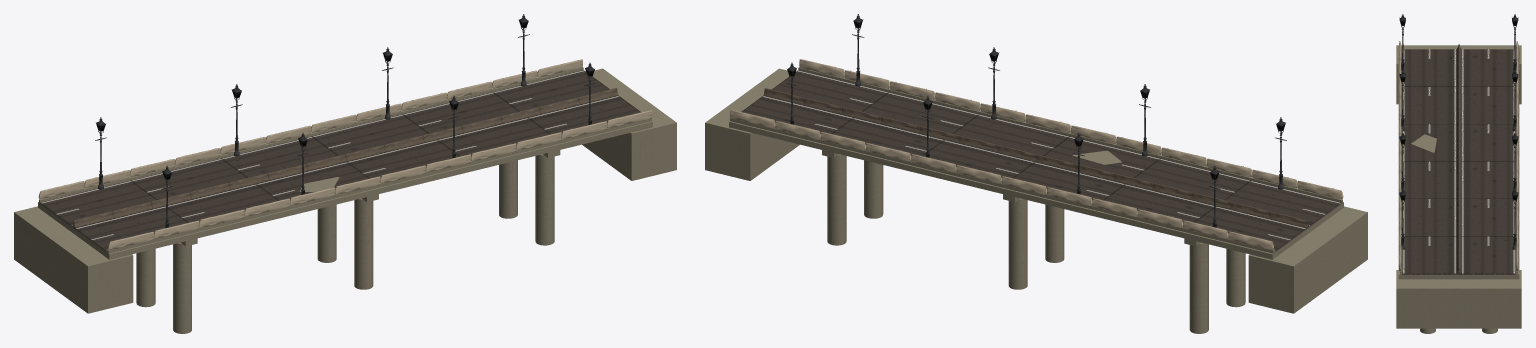
File: debris.glb
3 renders of one model, left to right at view 1: azimuth 30°, elevation 25°; view 2: azimuth 150°, elevation 25°; view 3: azimuth 270°, elevation 25°, orthographic. The views are drawn at different scales.
Visible parts, largest first — view 1: piece_016, piece_008, piece_284, piece_262, piece_259, piece_274, piece_011, piece_256, piece_020, piece_185, piece_017, piece_187 (+22 smaller); view 2: piece_016, piece_008, piece_270, piece_261, piece_258, piece_255, piece_185, piece_011, piece_005, piece_275, piece_287, piece_187 (+25 smaller); view 3: piece_016, piece_008, piece_291, piece_011, piece_005, piece_283, piece_020, piece_017, piece_284, piece_010, piece_018, piece_007 (+37 smaller).
Boxes of the visible parts, bbox=[...] form: piece_016: bbox=[426, 70, 640, 155]; piece_008: bbox=[342, 108, 463, 167]; piece_284: bbox=[625, 113, 676, 164]; piece_262: bbox=[535, 154, 554, 245]; piece_259: bbox=[354, 198, 373, 289]; piece_274: bbox=[82, 259, 123, 313]; piece_011: bbox=[296, 129, 368, 176]; piece_256: bbox=[173, 242, 191, 333]; piece_020: bbox=[215, 135, 316, 172]; piece_185: bbox=[170, 67, 583, 170]; piece_017: bbox=[170, 160, 241, 189]; piece_187: bbox=[280, 118, 651, 211]; piece_016: bbox=[741, 70, 972, 150]; piece_008: bbox=[903, 121, 1034, 171]; piece_270: bbox=[1268, 251, 1309, 313]; piece_261: bbox=[827, 154, 846, 245]; piece_258: bbox=[1008, 198, 1027, 289]; piece_255: bbox=[1189, 242, 1208, 333]; piece_185: bbox=[730, 118, 1142, 221]; piece_011: bbox=[987, 150, 1072, 181]; piece_005: bbox=[1218, 195, 1341, 221]; piece_275: bbox=[1248, 254, 1277, 309]; piece_287: bbox=[727, 141, 767, 180]; piece_187: bbox=[798, 67, 1170, 160]; piece_016: bbox=[1402, 200, 1515, 274]; piece_008: bbox=[1419, 166, 1515, 208]; piece_291: bbox=[1441, 286, 1486, 328]; piece_011: bbox=[1429, 147, 1514, 173]; piece_005: bbox=[1403, 49, 1472, 85]; piece_283: bbox=[1483, 270, 1521, 318]; piece_020: bbox=[1476, 121, 1515, 162]; piece_017: bbox=[1463, 100, 1514, 124]; piece_284: bbox=[1396, 270, 1418, 324]; piece_010: bbox=[1417, 118, 1482, 138]; piece_018: bbox=[1405, 49, 1496, 68]; piece_007: bbox=[1461, 84, 1514, 101].
Bounding box in the file's own units: 78 × 23.1 × 17.
Materials: 11 (7 with a texture image).
